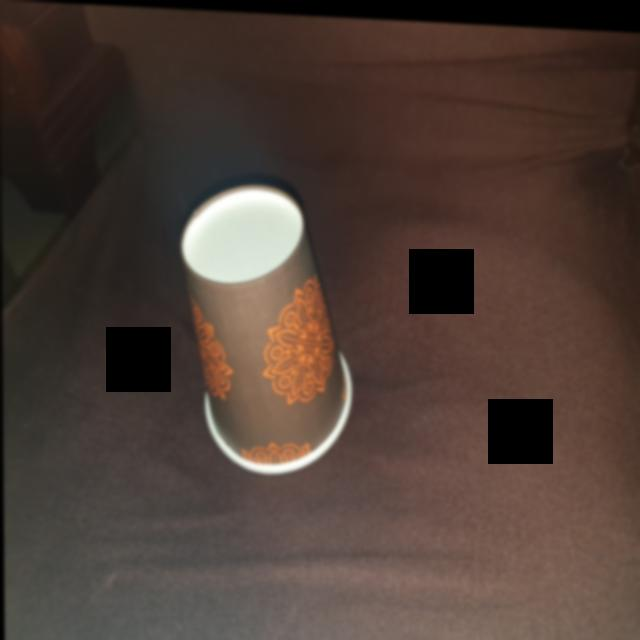cups: (173, 163, 359, 484)
